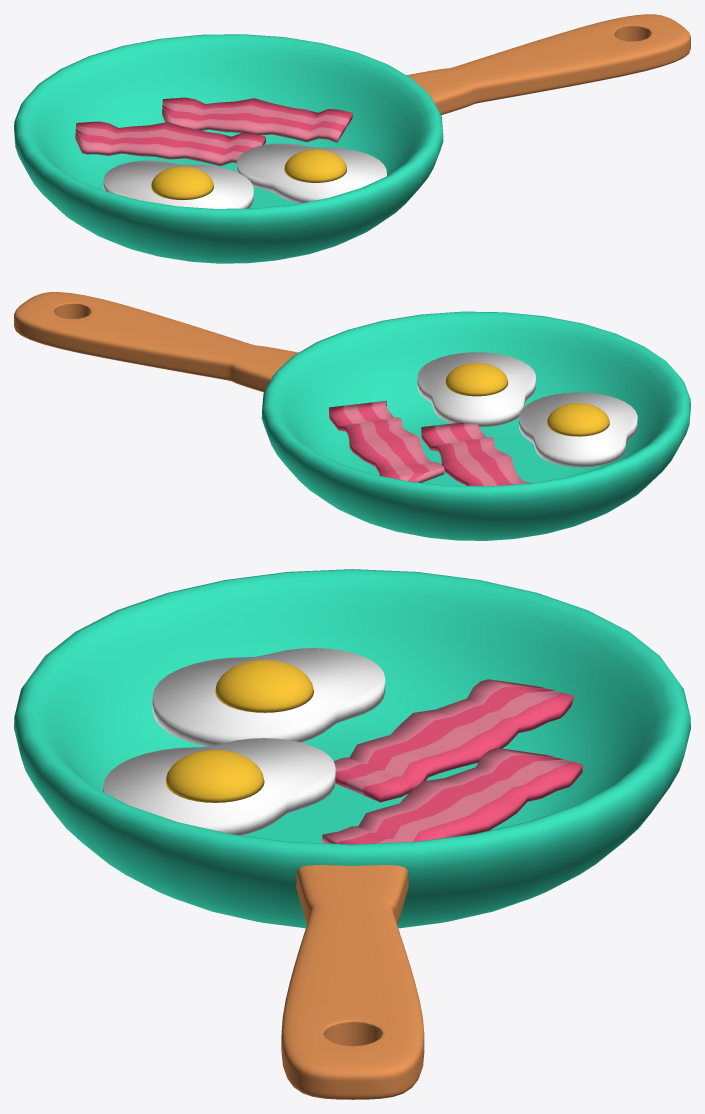
Rendered from jajo-bekon.gltf.
3 views of the same model, one above another, from view 1: azimuth 30°, elevation 25°; view 2: azimuth 150°, elevation 25°; view 3: azimuth 270°, elevation 25° (orthographic). The views are drawn at different scales.
Visible parts, largest first — view 1: Circle.005, Plane.002, Plane, Plane.003, Circle.004, Circle.006, Sphere.002, Sphere.003; view 2: Circle.005, Plane.002, Circle.006, Circle.004, Plane, Plane.003, Sphere.002, Sphere.003; view 3: Circle.005, Plane.002, Circle.006, Plane.003, Circle.004, Plane, Sphere.003, Sphere.002.
Part boxes in pixels (box(x1,y1,x2,y2)): Circle.005: box(14, 34, 443, 263); Plane.002: box(406, 14, 690, 114); Plane: box(162, 97, 352, 142); Plane.003: box(75, 121, 265, 166); Circle.004: box(236, 143, 386, 203); Circle.006: box(103, 160, 253, 208); Sphere.002: box(284, 149, 346, 182); Sphere.003: box(151, 166, 213, 199); Circle.005: box(261, 311, 690, 540); Plane.002: box(14, 292, 298, 392); Circle.006: box(519, 392, 637, 467); Circle.004: box(417, 352, 535, 427); Plane: box(329, 400, 444, 482); Plane.003: box(421, 422, 530, 486); Sphere.002: box(445, 362, 508, 396); Sphere.003: box(547, 403, 609, 436); Circle.005: box(14, 569, 690, 928); Plane.002: box(281, 865, 424, 1099); Circle.006: box(152, 648, 385, 746); Plane.003: box(334, 679, 573, 802); Circle.004: box(103, 738, 335, 835); Plane: box(322, 748, 582, 844); Sphere.003: box(215, 660, 313, 712); Sphere.002: box(165, 750, 264, 802).
Size of the model in its own units: 7.82 by 1.04 by 4.56.
3 materials, 3 textured.
